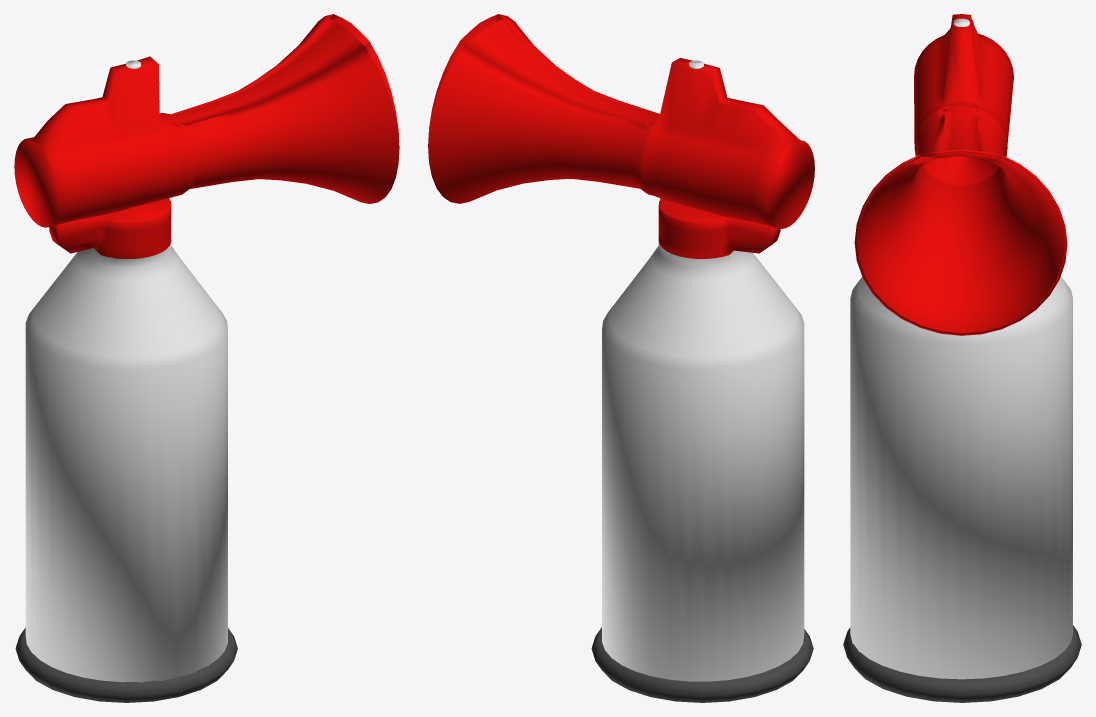
The model's file is AirHorn.fbx.
The picture shows the model from 3 angles, left to right: view 1: azimuth 30°, elevation 25°; view 2: azimuth 150°, elevation 25°; view 3: azimuth 270°, elevation 25°; orthographic projection. The views are drawn at different scales.
Visible parts, largest first — view 1: Cylinder.001; view 2: Cylinder.001; view 3: Cylinder.001.
Part boxes in pixels (left/top/right/bottom): Cylinder.001: left=14, top=14, right=399, bottom=702; Cylinder.001: left=428, top=14, right=814, bottom=702; Cylinder.001: left=843, top=14, right=1081, bottom=702.
Bounding box in the file's own units: 115 × 203 × 68.91.
